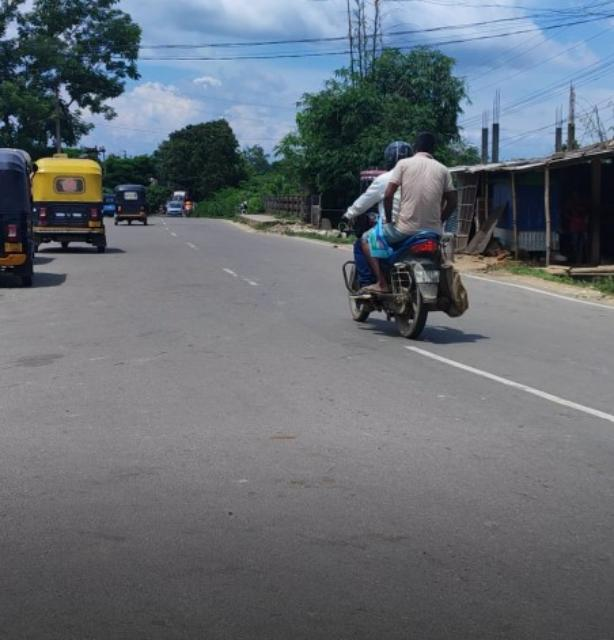licensePlate: (419, 268, 446, 282)
motorcycle: (333, 124, 475, 341)
withHelmet: (383, 136, 416, 169)
withoutHelmet: (412, 131, 440, 160)
